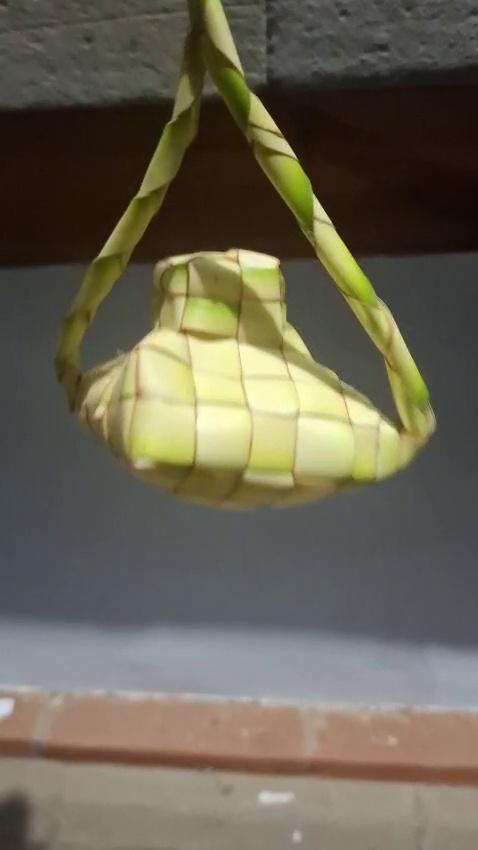Tipat Gong: (58, 0, 436, 516)
